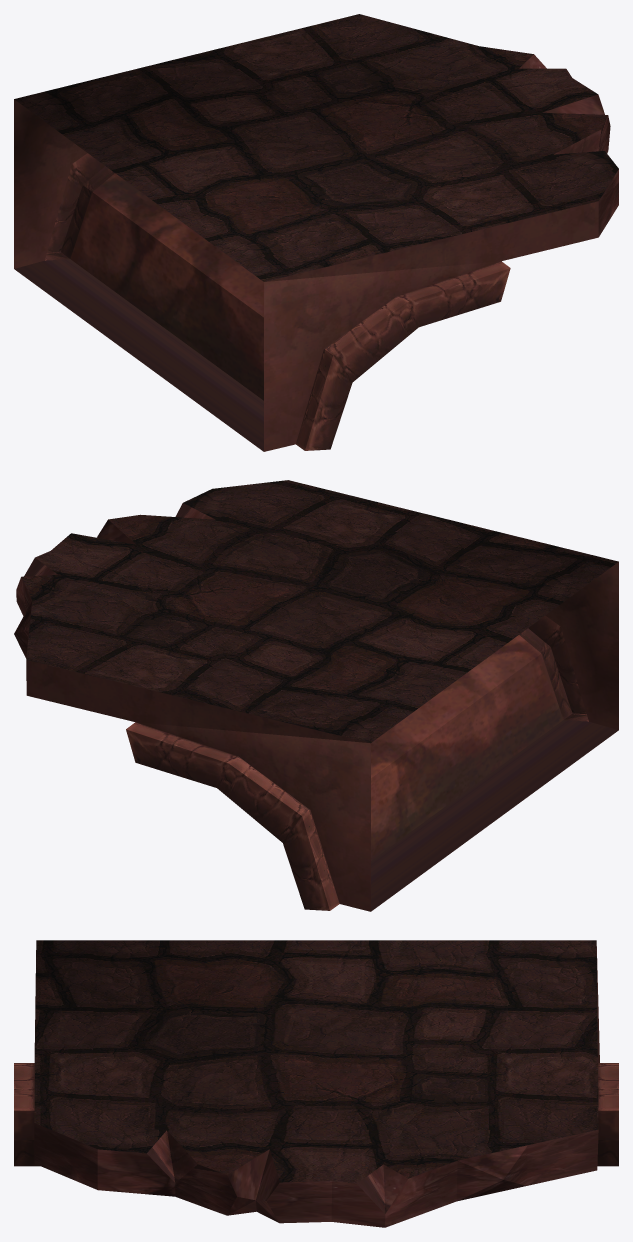
The model's file is lava_bridge_transition_02.fbx.
3 views of the same model, one above another, from view 1: azimuth 30°, elevation 25°; view 2: azimuth 150°, elevation 25°; view 3: azimuth 270°, elevation 25° (orthographic). The views are drawn at different scales.
Visible parts, largest first — view 1: lava_bridge_transition_02-0; view 2: lava_bridge_transition_02-0; view 3: lava_bridge_transition_02-0.
Boxes of the visible parts, x1,y1,x2,y2 form: lava_bridge_transition_02-0: [14, 14, 618, 451]; lava_bridge_transition_02-0: [14, 480, 618, 911]; lava_bridge_transition_02-0: [14, 940, 618, 1227].
Bounding box in the file's own units: 5.21 × 1.92 × 5.4.
